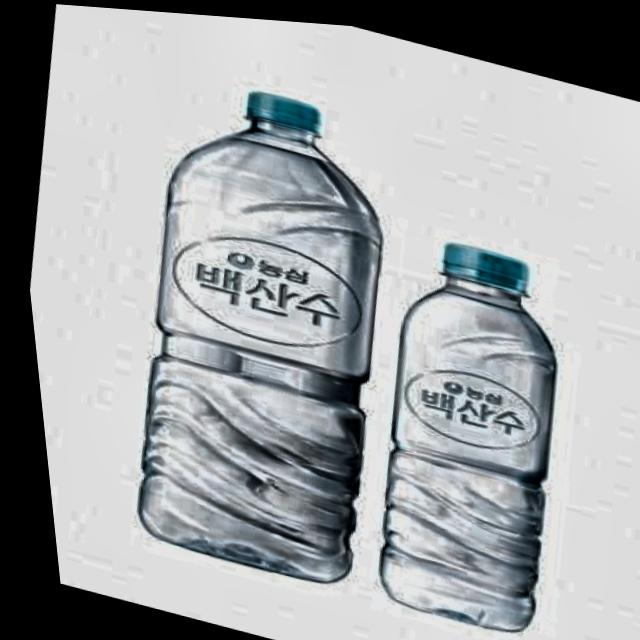Bottles: (43, 50, 442, 607), (293, 194, 631, 640)
